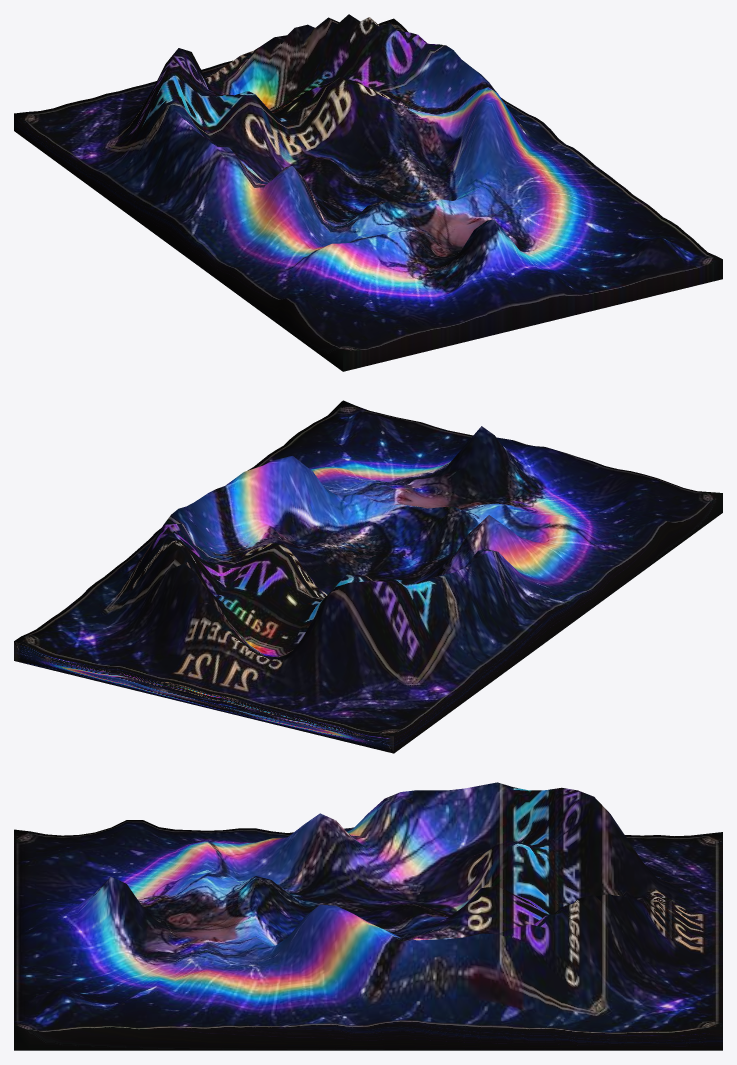
Rendered from CAREER_09_VFX_05_Perfect.glb.
The picture shows the model from 3 angles, top to bottom: view 1: azimuth 30°, elevation 25°; view 2: azimuth 150°, elevation 25°; view 3: azimuth 270°, elevation 25°; orthographic projection. The views are drawn at different scales.
Parts seen in each view (by area): view 1: CAREER_09_VFX_05_Perfect; view 2: CAREER_09_VFX_05_Perfect; view 3: CAREER_09_VFX_05_Perfect.
Part boxes in pixels (bbox=[...]): CAREER_09_VFX_05_Perfect: bbox=[14, 14, 722, 371]; CAREER_09_VFX_05_Perfect: bbox=[14, 400, 722, 753]; CAREER_09_VFX_05_Perfect: bbox=[14, 782, 722, 1050].
Bounding box in the file's own units: 2 × 0.51 × 3.
1 material, 1 textured.
